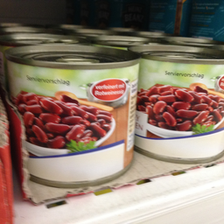beans: (7, 46, 135, 194), (137, 44, 224, 164)
